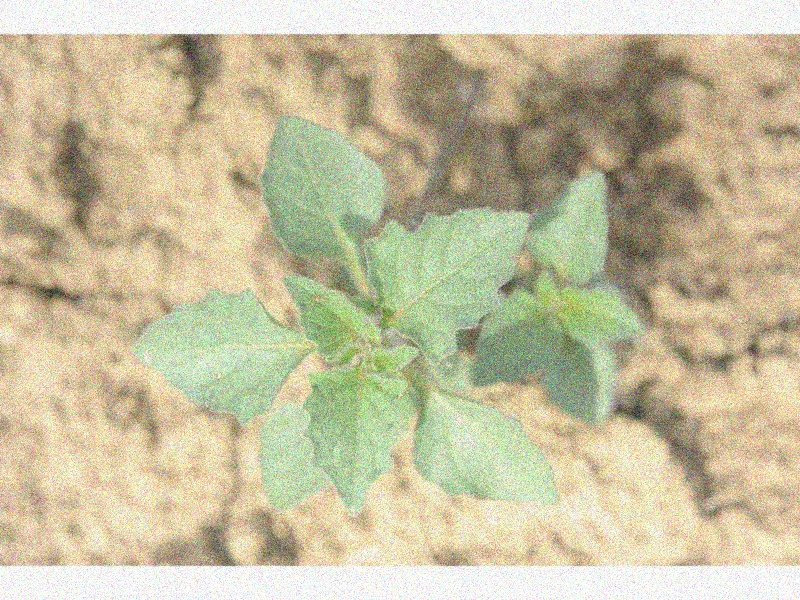nightshade: (134, 110, 642, 519)
